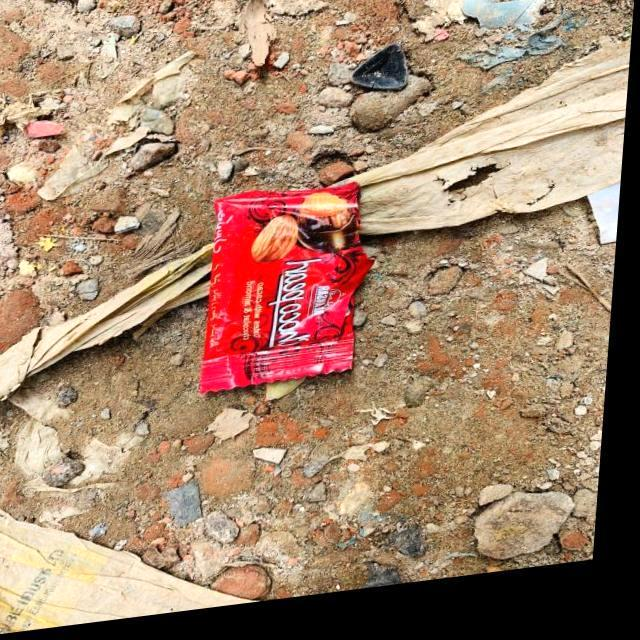packet: (197, 186, 380, 411)
